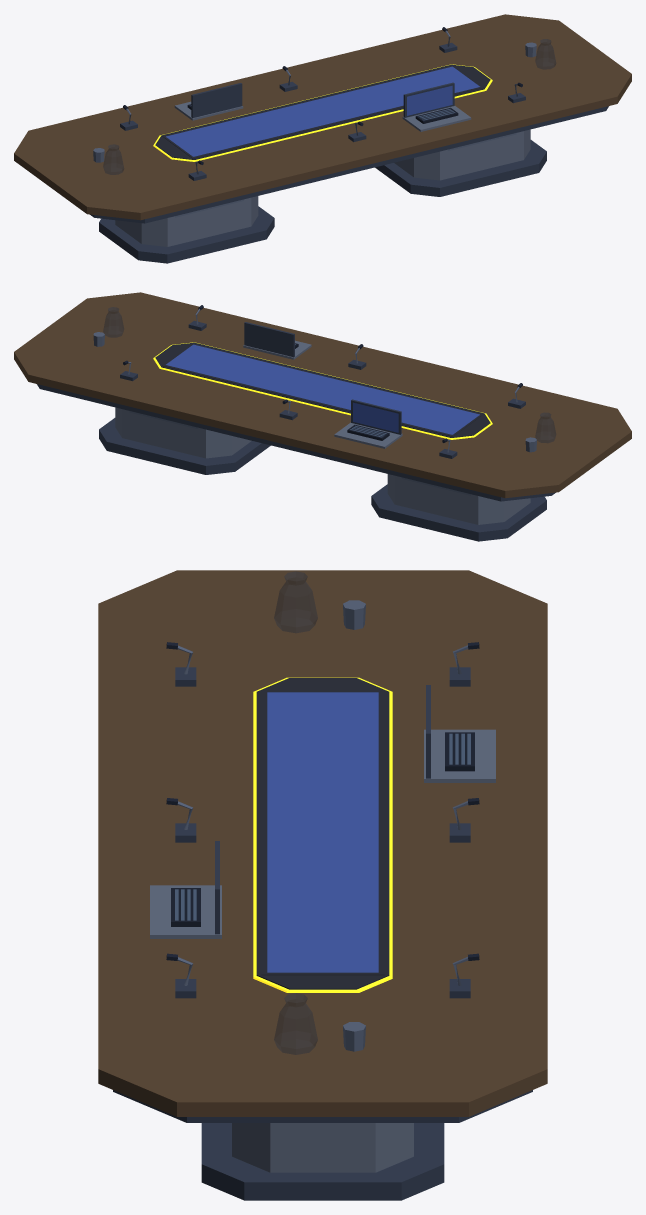
Rendered from off_conference_table.glb.
3 renders of one model, top to bottom at view 1: azimuth 30°, elevation 25°; view 2: azimuth 150°, elevation 25°; view 3: azimuth 270°, elevation 25°, orthographic. The views are drawn at different scales.
Visible parts, largest first — view 1: boat_top, mic_base, notebook_base, print, inset_glass, projection_rim, water_carafe, print.001, access_seam, capsule; view 2: boat_top, mic_base, notebook_base, print, inset_glass, projection_rim, water_carafe, print.001, access_seam, capsule; view 3: boat_top, print, mic_base, notebook_base, inset_glass, water_carafe, projection_rim, capsule, access_seam, key_row.
Boxes of the visible parts, x1,y1,x2,y2 form: boat_top: [14, 14, 631, 220]; mic_base: [90, 42, 608, 263]; notebook_base: [115, 101, 530, 246]; print: [166, 66, 479, 156]; inset_glass: [155, 64, 490, 159]; projection_rim: [153, 64, 492, 161]; water_carafe: [103, 39, 555, 174]; print.001: [407, 85, 452, 115]; access_seam: [93, 30, 536, 217]; capsule: [123, 27, 522, 164]; boat_top: [14, 292, 631, 498]; mic_base: [37, 320, 555, 541]; notebook_base: [115, 340, 530, 524]; print: [166, 344, 479, 434]; inset_glass: [155, 342, 490, 437]; projection_rim: [153, 342, 492, 439]; water_carafe: [103, 307, 555, 442]; print.001: [353, 402, 398, 432]; access_seam: [93, 308, 536, 495]; capsule: [123, 305, 522, 442]; boat_top: [98, 570, 547, 1116]; print: [267, 692, 378, 972]; mic_base: [113, 667, 532, 1200]; notebook_base: [150, 729, 495, 1172]; inset_glass: [256, 678, 389, 989]; water_carafe: [274, 571, 317, 1054]; projection_rim: [253, 677, 392, 992]; capsule: [166, 642, 479, 960]; access_seam: [177, 600, 468, 1051]; key_row: [175, 733, 470, 920].
Bounding box in the file's own units: 5.6 × 1.05 × 2.
